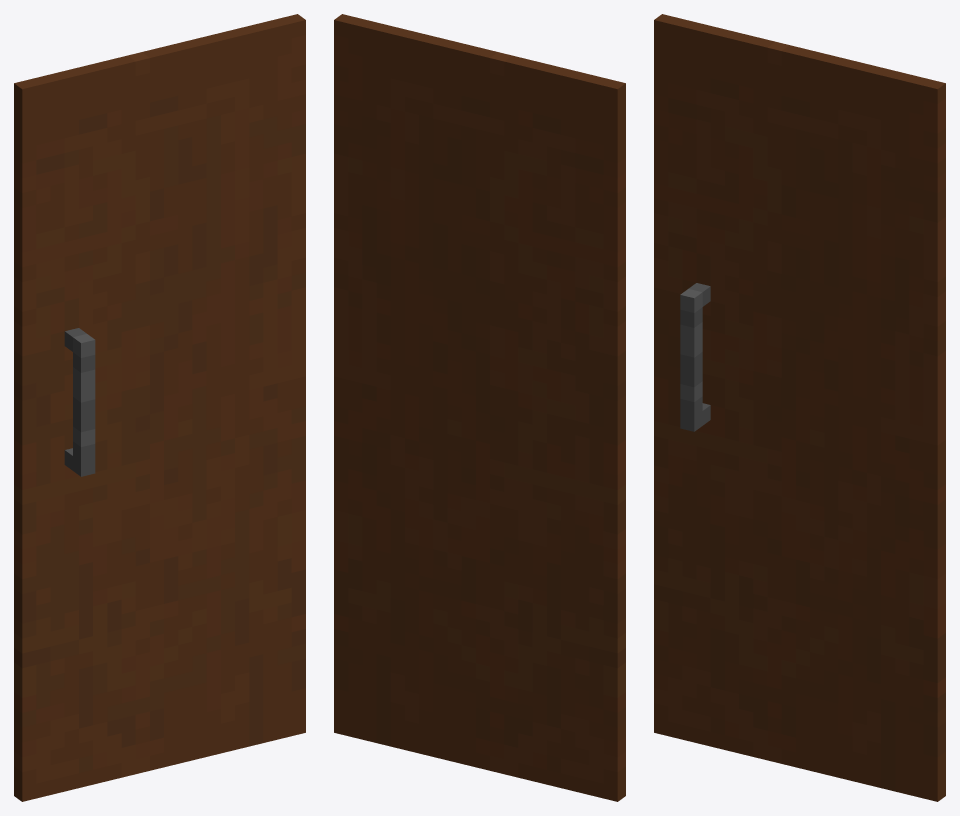
Rendered from wardrobe1-door-right.obj.
3 renders of one model, left to right at view 1: azimuth 30°, elevation 25°; view 2: azimuth 150°, elevation 25°; view 3: azimuth 330°, elevation 25°, orthographic.
Bounding box in the file's own units: 2 × 4.8 × 0.3.
Materials: 1 (1 with a texture image).
